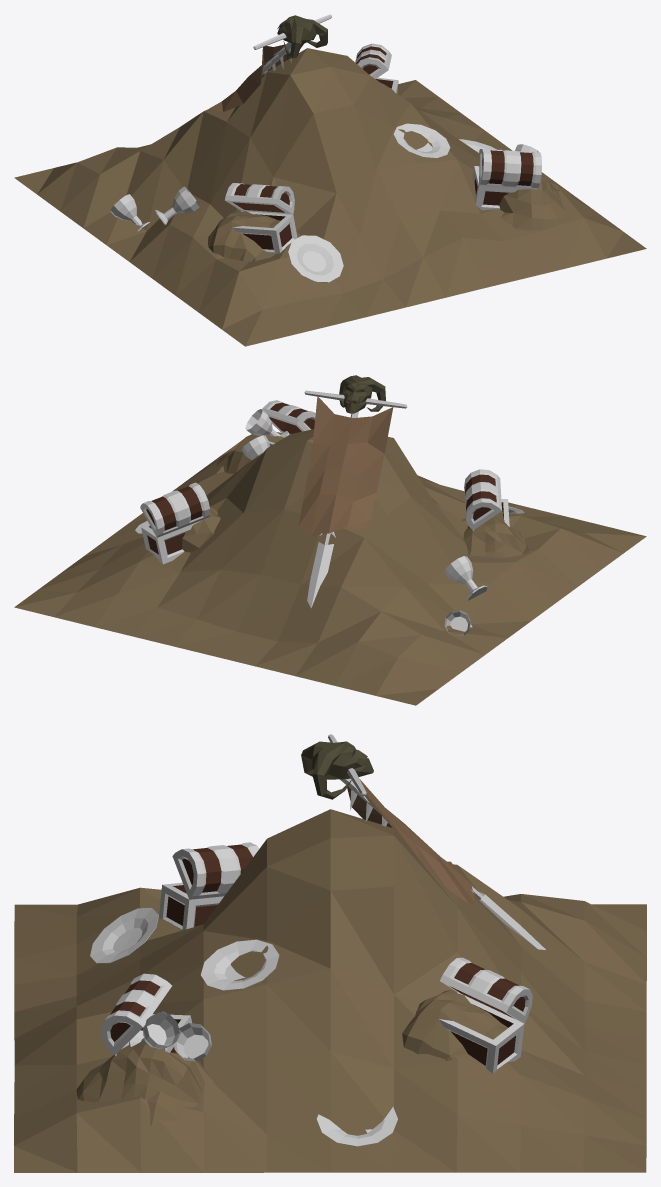
The model's file is NW_MISC_TREASURE_01.OBJ.
3 views of the same model, one above another, from view 1: azimuth 30°, elevation 25°; view 2: azimuth 150°, elevation 25°; view 3: azimuth 270°, elevation 25° (orthographic). The views are drawn at different scales.
Visible parts, largest first — view 1: NW_MISC_TREASURE_01; view 2: NW_MISC_TREASURE_01; view 3: NW_MISC_TREASURE_01.
Boxes of the visible parts, x1,y1,x2,y2 form: NW_MISC_TREASURE_01: (14,14,646,346); NW_MISC_TREASURE_01: (14,375,646,705); NW_MISC_TREASURE_01: (14,734,646,1172).
Size of the model in its own units: 5 by 2.46 by 4.98.
